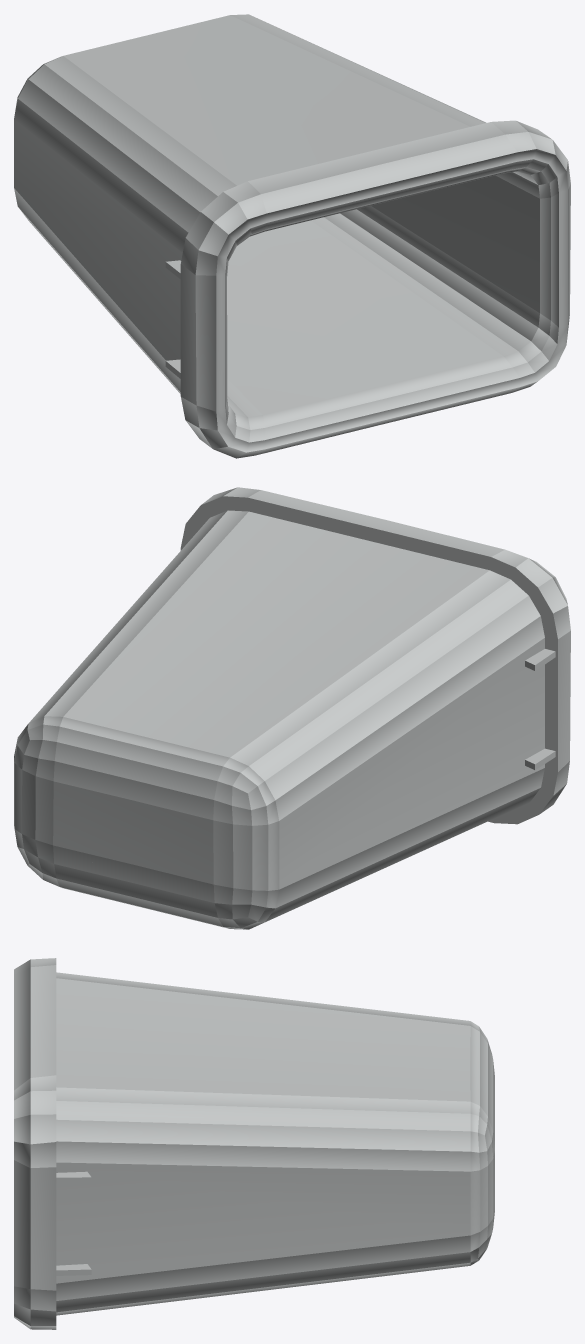
Rendered from Bin_4_Bin_4_0_GeomSubset_0.obj.
3 renders of one model, top to bottom at view 1: azimuth 30°, elevation 25°; view 2: azimuth 150°, elevation 25°; view 3: azimuth 270°, elevation 25°, orthographic. The views are drawn at different scales.
Visible parts, largest first — view 1: Bin_4_Bin_4_0_GeomSubset_0; view 2: Bin_4_Bin_4_0_GeomSubset_0; view 3: Bin_4_Bin_4_0_GeomSubset_0.
Boxes of the visible parts, <box> form: Bin_4_Bin_4_0_GeomSubset_0: <box>14,14,570,458</box>; Bin_4_Bin_4_0_GeomSubset_0: <box>14,487,570,929</box>; Bin_4_Bin_4_0_GeomSubset_0: <box>14,958,494,1329</box>.
Size of the model in its own units: 0.5327 by 0.3582 by 0.7328.
